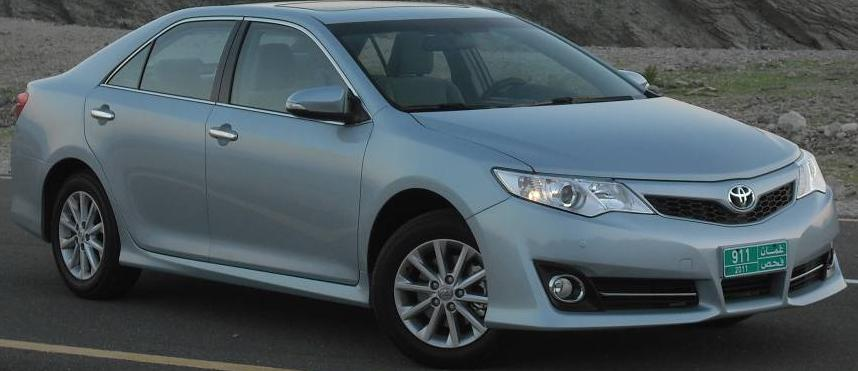front_view: (462, 127, 832, 324)
headlight: (482, 158, 664, 218)
side_glass: (124, 22, 368, 133)
